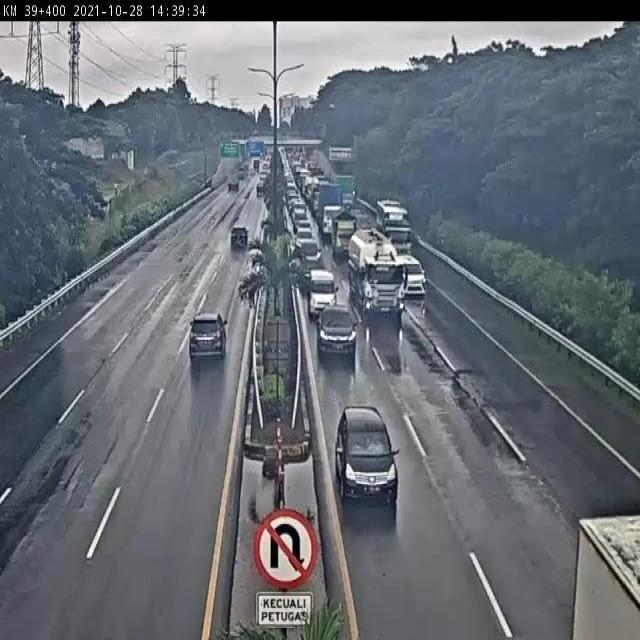big bus: (373, 196, 413, 243)
big truck: (351, 229, 407, 328)
car: (332, 405, 395, 503), (188, 309, 227, 362), (302, 268, 340, 319), (313, 303, 353, 349), (398, 245, 433, 296), (293, 236, 326, 268), (228, 220, 249, 255)
small truck: (576, 508, 640, 640), (325, 211, 362, 260)
